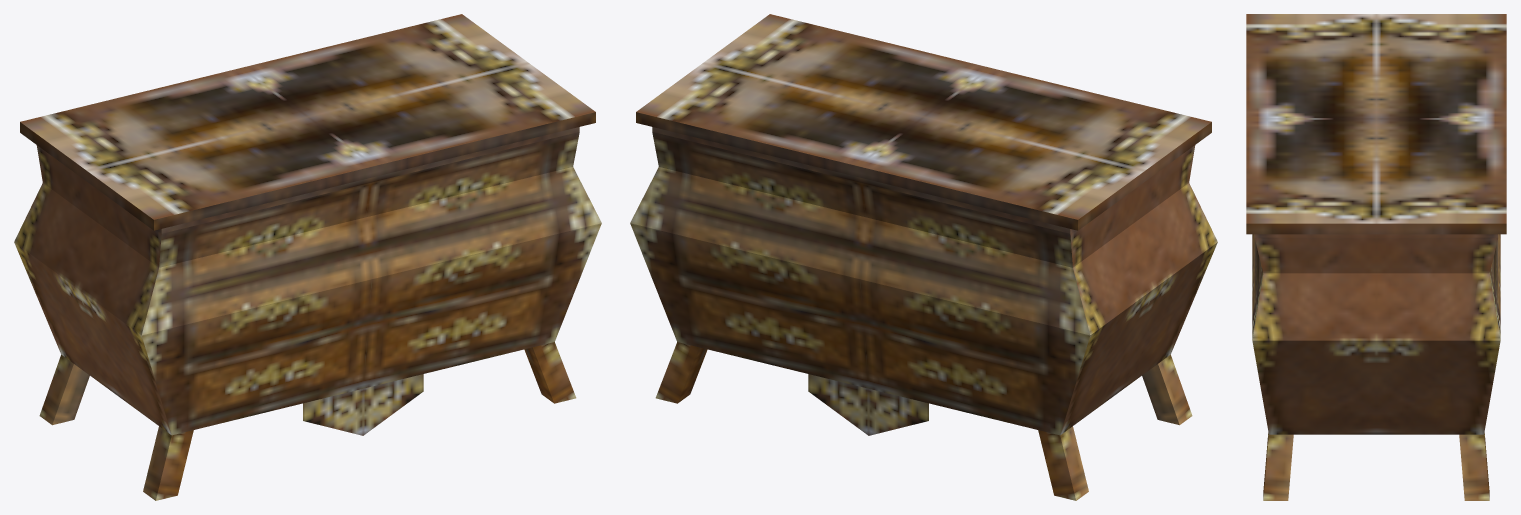
The model's file is FancyDrawer01.obj.
3 renders of one model, left to right at view 1: azimuth 30°, elevation 25°; view 2: azimuth 150°, elevation 25°; view 3: azimuth 270°, elevation 25°, orthographic. The views are drawn at different scales.
Parts seen in each view (by area): view 1: FancyDrawer01; view 2: FancyDrawer01; view 3: FancyDrawer01.
Part boxes in pixels (bbox=[...]): FancyDrawer01: bbox=[14, 14, 601, 500]; FancyDrawer01: bbox=[630, 14, 1217, 500]; FancyDrawer01: bbox=[1246, 14, 1506, 500].
Bounding box in the file's own units: 2.08 × 1.25 × 1.05.
